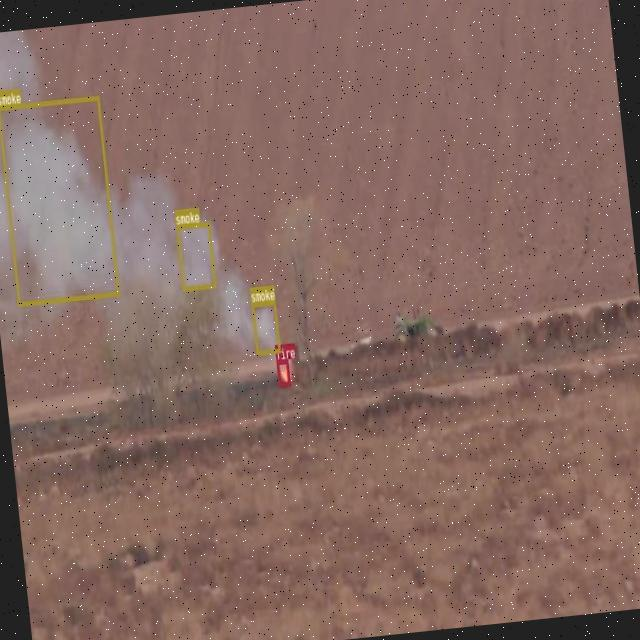fire: (275, 358, 290, 385)
smoke: (0, 95, 119, 305), (174, 220, 216, 290), (251, 299, 280, 353)
